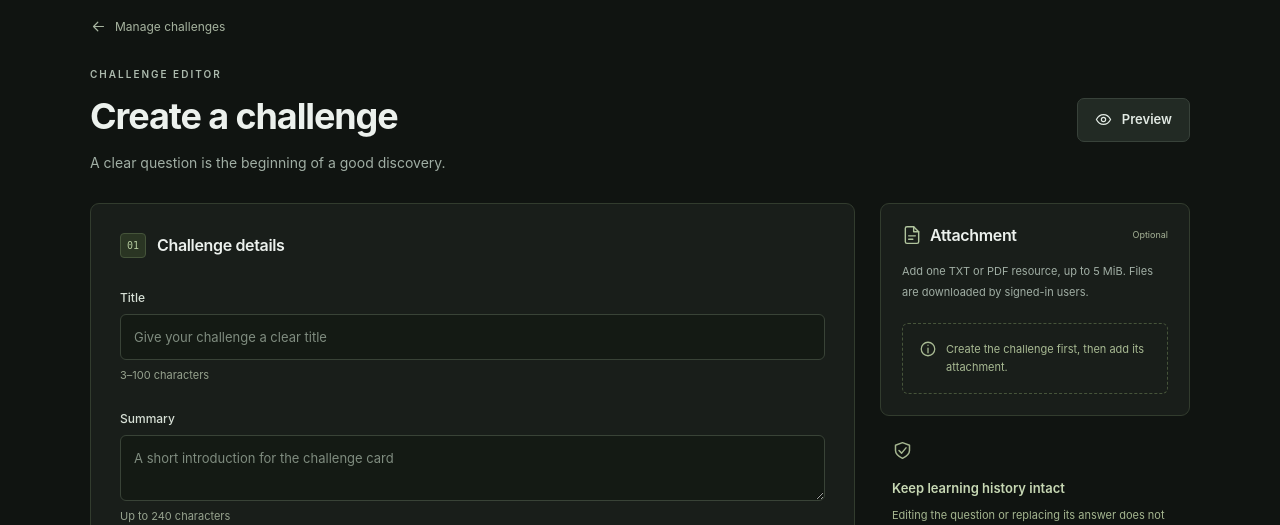
Test case: challenge authoring › starts new challenges as drafts and rejects accidental whitespace in authored answers
Type "A new challenge" into the field labelled "Title" at (472, 337), box [120, 314, 825, 360]
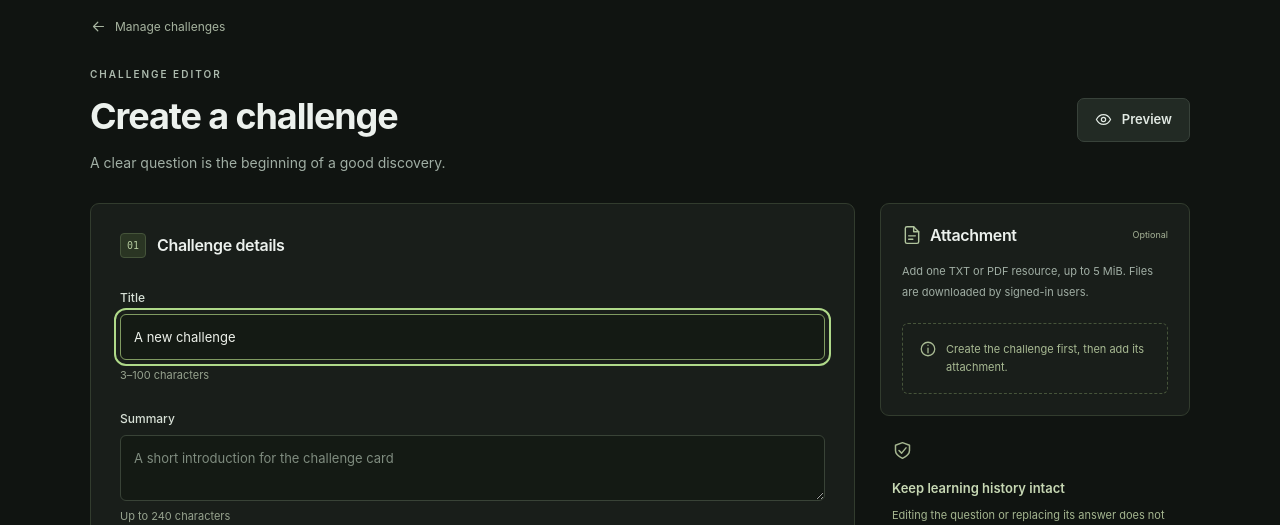
Type "A short summary." into the text box labelled "Summary" at (472, 468), box [120, 434, 825, 501]
(page scrolled)
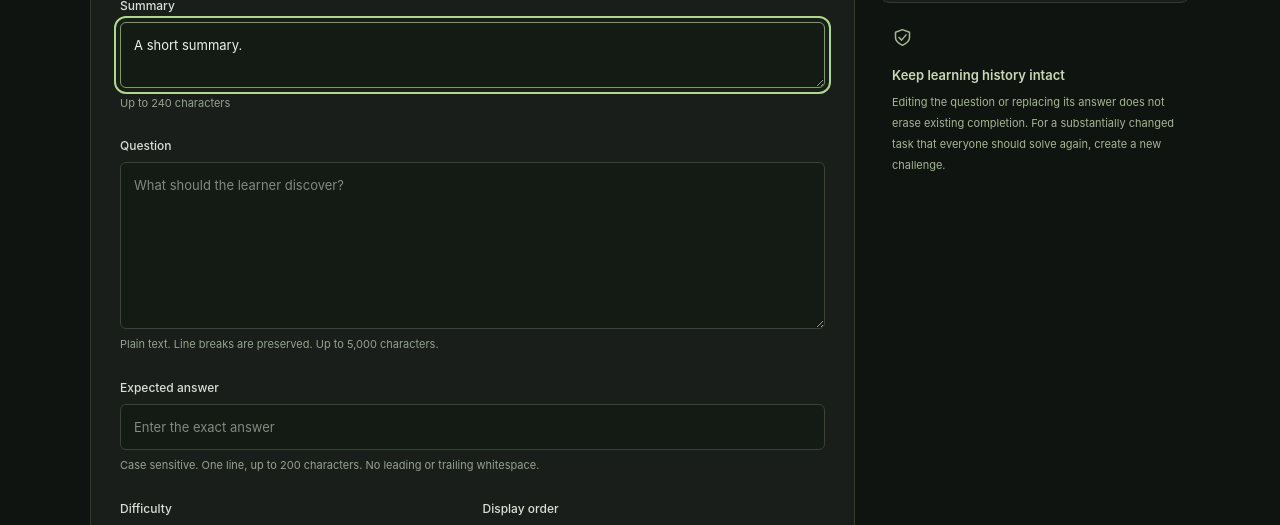
Type "A plain question?" into the text box labelled "Question" at (472, 246), box [120, 162, 825, 329]
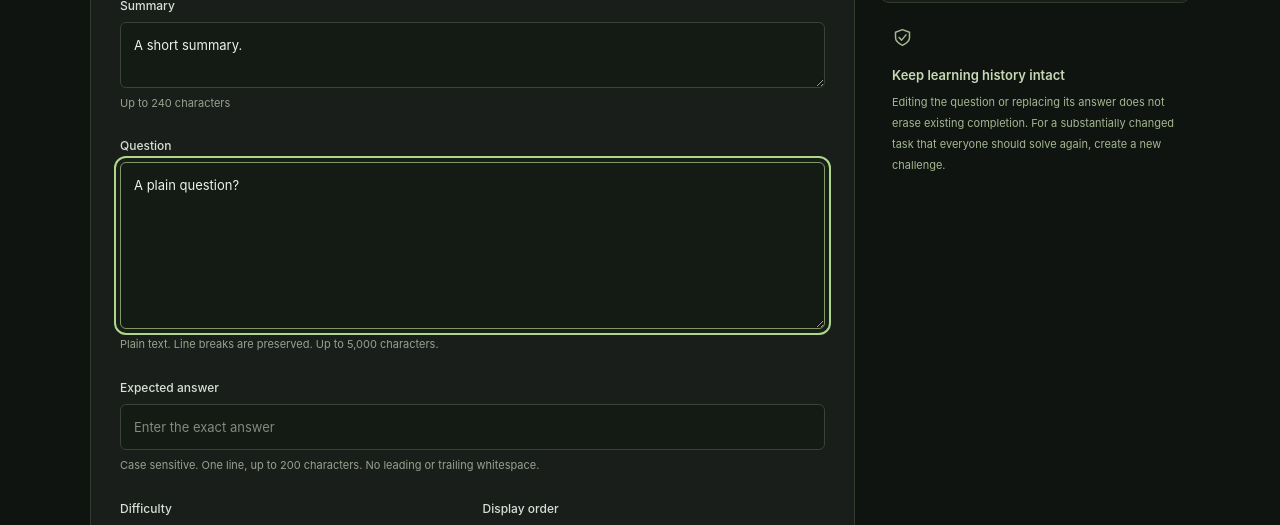
Type " space" into the field labelled "Expected answer" at (472, 427), box [120, 404, 825, 450]
(page scrolled)
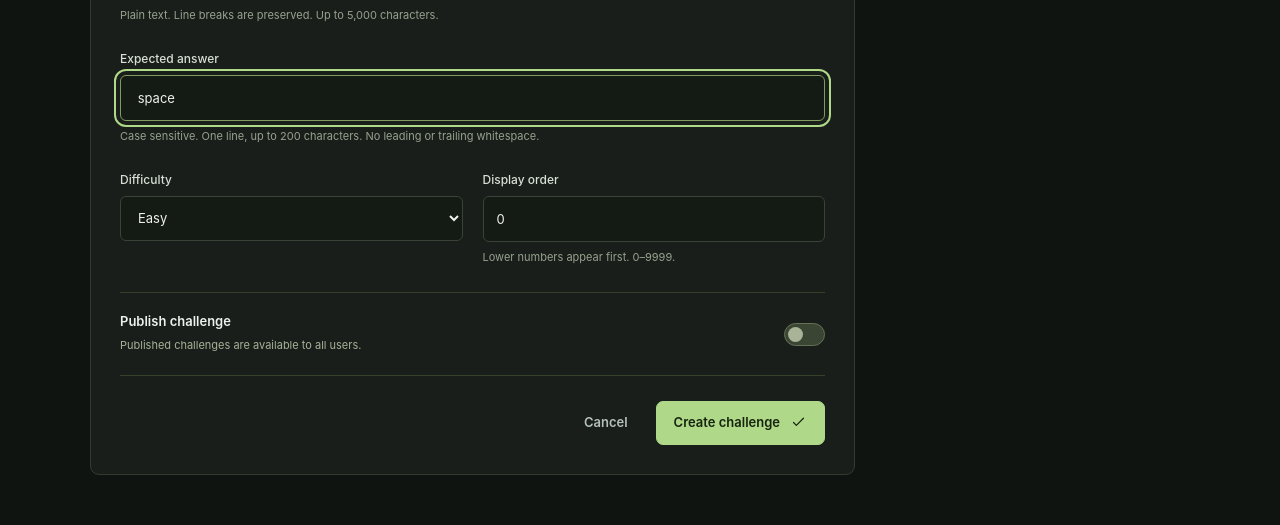
Click the button "Create challenge" at (740, 423), box [656, 401, 825, 445]
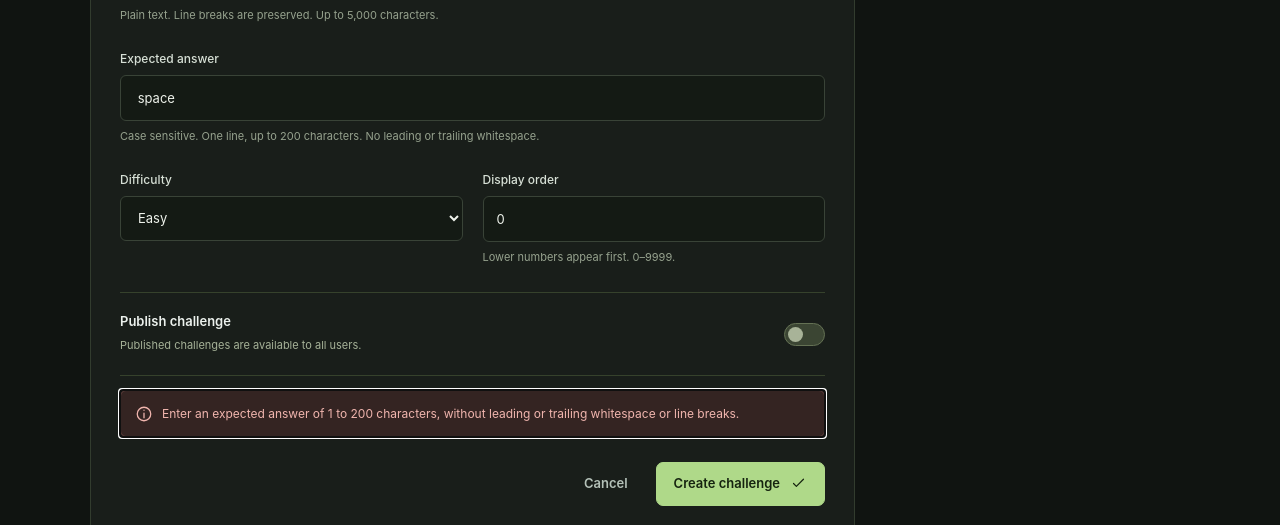
Now the text "Enter an expected answer of 1 to 200 characters, without leading or trailing whitespace or line breaks." is shown, box [162, 406, 739, 421]
